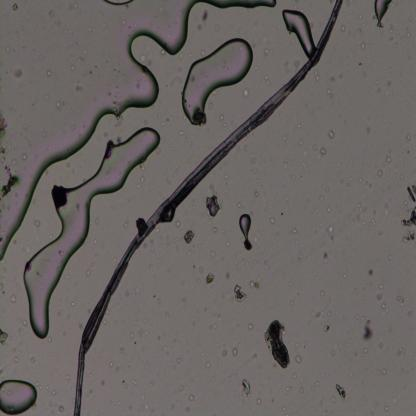Air bubble: (0, 1, 277, 262), (23, 126, 160, 340), (181, 38, 254, 126), (281, 8, 316, 59), (0, 380, 37, 415), (373, 0, 393, 21), (238, 214, 253, 241)
Anthropogenic: (72, 0, 344, 414)
Background material: (0, 110, 22, 198), (401, 184, 416, 244), (0, 167, 18, 197), (206, 194, 223, 218), (53, 184, 68, 208), (232, 282, 249, 302), (334, 383, 349, 405), (239, 377, 252, 401), (353, 280, 374, 294), (364, 317, 374, 344), (0, 326, 10, 348), (374, 21, 386, 38), (0, 113, 7, 142), (0, 274, 8, 295), (138, 54, 152, 66), (168, 77, 182, 88), (184, 229, 194, 244), (242, 239, 254, 251), (0, 144, 8, 162), (380, 301, 391, 314), (130, 287, 140, 301), (384, 201, 392, 218), (231, 258, 240, 273), (249, 150, 258, 165), (52, 101, 64, 112), (205, 273, 216, 285), (137, 328, 150, 338), (282, 60, 290, 76), (321, 247, 330, 261), (73, 81, 84, 92), (133, 75, 141, 90), (397, 293, 405, 308), (312, 309, 324, 319), (356, 26, 366, 38), (248, 350, 258, 362), (208, 249, 216, 264), (234, 336, 242, 350), (26, 353, 36, 364), (11, 1, 20, 13), (376, 288, 385, 300), (264, 73, 272, 86), (284, 382, 294, 392), (14, 69, 24, 79), (322, 323, 331, 334), (253, 231, 262, 242), (395, 346, 404, 357), (263, 35, 271, 47), (326, 223, 334, 235), (165, 174, 173, 186), (242, 88, 250, 100), (120, 362, 127, 375), (82, 68, 92, 77), (384, 155, 392, 166), (394, 173, 405, 181), (120, 219, 129, 228), (292, 60, 300, 70), (328, 130, 336, 140), (294, 354, 302, 364), (314, 70, 320, 83), (320, 145, 326, 158), (329, 74, 336, 85), (408, 307, 415, 318), (366, 181, 374, 190), (326, 88, 334, 97), (352, 348, 358, 360), (187, 392, 195, 401), (401, 368, 409, 377), (376, 340, 384, 349), (232, 346, 238, 358), (20, 150, 26, 162), (10, 292, 16, 304), (376, 228, 384, 237), (202, 10, 207, 24), (216, 312, 223, 322), (354, 213, 360, 224), (140, 175, 146, 186), (404, 132, 410, 143), (388, 23, 394, 34), (191, 264, 197, 275), (332, 344, 337, 357), (198, 266, 206, 274), (318, 288, 326, 296), (218, 113, 226, 121), (358, 176, 366, 184), (172, 236, 180, 244), (403, 31, 411, 39), (210, 226, 218, 234), (382, 90, 390, 98), (263, 48, 270, 57), (14, 280, 21, 289), (34, 219, 41, 228), (207, 323, 216, 330), (114, 102, 120, 112), (325, 299, 331, 309), (403, 198, 409, 208), (221, 348, 227, 358), (339, 69, 345, 79), (368, 267, 374, 277), (386, 252, 392, 262), (46, 70, 53, 78), (43, 382, 50, 390), (357, 12, 364, 20), (164, 351, 172, 358), (179, 384, 186, 392), (312, 228, 319, 236), (347, 340, 354, 348), (176, 356, 183, 364), (193, 275, 200, 283), (169, 338, 174, 349), (356, 201, 362, 210), (330, 395, 336, 404), (144, 402, 150, 411), (248, 322, 254, 331), (115, 397, 121, 406), (291, 226, 297, 235), (151, 239, 155, 252), (387, 80, 392, 90), (366, 124, 371, 134), (115, 137, 122, 144), (362, 346, 369, 353), (120, 19, 127, 26), (255, 398, 262, 405), (140, 393, 146, 401), (164, 242, 170, 250), (222, 272, 230, 278), (49, 400, 55, 408), (354, 311, 360, 319), (290, 300, 296, 308), (76, 324, 84, 330), (1, 266, 7, 274), (210, 340, 218, 346), (252, 64, 258, 72), (55, 19, 61, 27), (286, 280, 292, 288), (185, 406, 191, 414), (201, 306, 207, 314), (318, 194, 324, 202), (64, 374, 70, 382), (363, 207, 371, 213), (372, 207, 378, 215), (12, 346, 18, 354), (370, 219, 376, 227), (175, 220, 181, 228), (6, 45, 11, 54), (389, 325, 394, 334), (36, 272, 42, 279), (69, 300, 75, 307), (72, 3, 78, 10), (13, 358, 20, 364), (384, 405, 390, 412), (198, 289, 204, 296), (86, 271, 92, 278), (314, 380, 320, 387), (160, 50, 166, 57), (323, 186, 330, 192), (271, 362, 277, 369), (200, 50, 206, 57), (57, 312, 64, 318), (296, 123, 302, 130), (360, 43, 366, 50), (376, 87, 382, 94), (100, 380, 106, 387), (78, 56, 84, 63), (155, 298, 162, 304), (342, 24, 346, 34), (48, 8, 53, 16), (206, 363, 211, 371), (270, 216, 275, 224), (23, 319, 28, 327), (136, 183, 141, 191), (209, 102, 214, 110), (182, 297, 187, 305), (59, 404, 64, 412), (180, 279, 184, 289), (298, 140, 304, 146), (329, 235, 335, 241), (296, 292, 302, 298), (388, 67, 394, 73), (0, 366, 4, 375), (303, 152, 309, 158), (88, 388, 93, 395), (255, 191, 260, 198), (71, 64, 76, 71), (292, 372, 297, 379), (119, 347, 124, 354), (132, 381, 139, 386), (299, 387, 304, 394), (313, 271, 318, 278), (93, 237, 97, 245), (342, 272, 346, 280), (115, 364, 119, 372), (316, 206, 320, 214), (149, 380, 153, 388), (130, 331, 134, 339), (378, 168, 382, 176), (372, 125, 377, 131), (326, 207, 331, 213), (282, 135, 287, 141), (209, 376, 214, 382), (389, 36, 394, 42), (269, 396, 274, 402), (382, 369, 387, 375), (310, 145, 316, 150), (101, 22, 106, 28), (165, 116, 170, 122), (393, 44, 398, 50), (87, 26, 92, 32), (180, 52, 184, 59), (187, 250, 191, 257), (341, 54, 345, 61), (298, 252, 302, 259), (349, 371, 353, 378), (282, 406, 286, 413), (362, 295, 366, 302), (140, 405, 145, 410), (201, 351, 206, 356), (294, 342, 299, 347), (163, 345, 168, 350), (179, 131, 184, 136), (252, 43, 257, 48), (284, 158, 289, 163), (34, 382, 39, 387), (220, 257, 225, 262), (362, 72, 367, 77), (258, 363, 263, 368), (400, 73, 406, 77), (48, 337, 52, 343), (159, 235, 163, 241), (256, 178, 260, 184), (212, 92, 216, 98), (40, 386, 44, 392), (94, 218, 98, 224), (221, 228, 225, 234), (224, 174, 228, 180), (88, 371, 92, 377), (378, 369, 382, 375), (126, 291, 130, 297), (375, 80, 379, 86), (165, 311, 168, 319), (292, 174, 296, 180), (134, 320, 138, 326), (320, 222, 324, 228), (192, 204, 195, 211), (336, 162, 340, 167), (121, 379, 125, 384), (238, 203, 242, 208), (125, 4, 129, 9), (280, 212, 284, 217), (326, 169, 330, 174), (372, 40, 376, 45), (225, 241, 229, 246), (83, 51, 87, 56), (167, 72, 171, 77), (228, 377, 232, 382), (188, 54, 193, 58), (66, 274, 70, 279), (327, 312, 331, 317), (410, 17, 414, 22), (109, 362, 114, 366), (192, 320, 196, 325), (321, 372, 324, 378), (368, 224, 371, 230), (53, 390, 56, 396), (285, 198, 289, 202), (152, 294, 156, 298), (358, 62, 362, 66), (381, 178, 384, 183), (295, 240, 298, 245), (223, 122, 226, 127), (276, 142, 279, 147), (143, 320, 148, 323), (363, 221, 366, 226), (302, 161, 305, 166), (329, 115, 332, 120), (198, 24, 200, 31), (352, 219, 356, 222), (406, 151, 410, 154), (348, 177, 351, 181), (362, 23, 366, 26), (335, 96, 338, 100), (162, 122, 165, 126), (124, 385, 127, 389), (303, 345, 306, 349), (343, 122, 346, 126), (263, 231, 265, 236), (362, 316, 364, 321), (199, 244, 201, 249), (171, 144, 174, 147), (351, 158, 353, 162), (134, 341, 136, 345), (104, 320, 106, 324), (300, 175, 303, 177), (402, 150, 404, 153)
Cellulose filter fibre: (263, 319, 290, 370)
